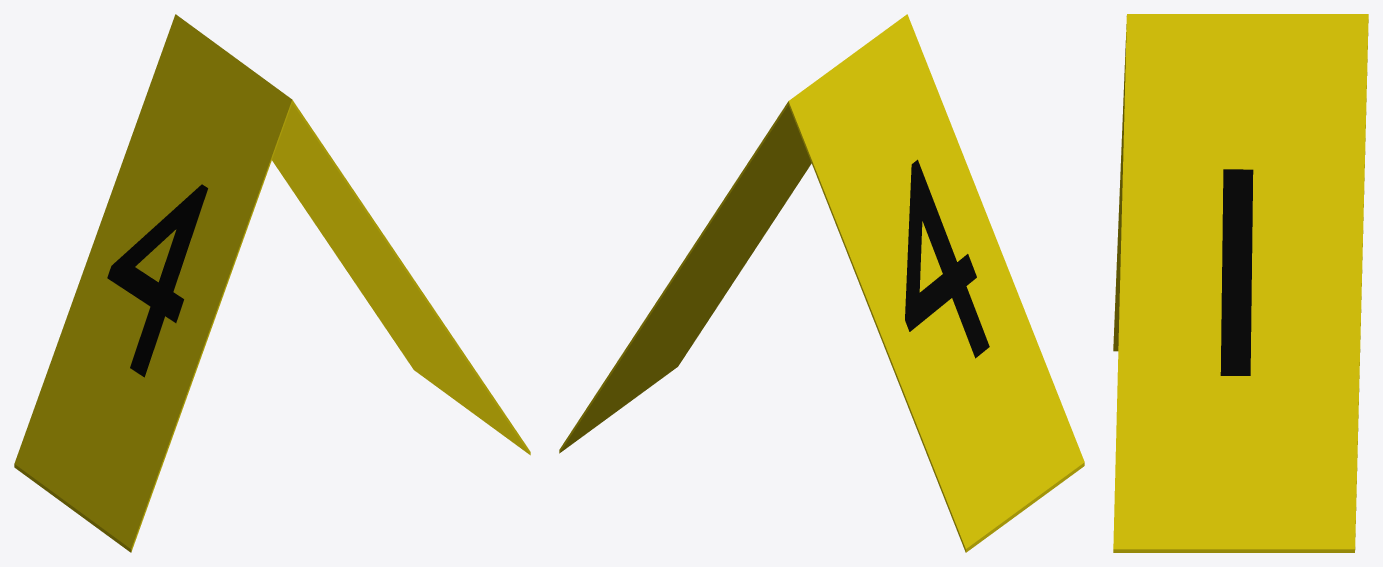
The model's file is stobok_evidence1.fbx.
3 renders of one model, left to right at view 1: azimuth 30°, elevation 25°; view 2: azimuth 150°, elevation 25°; view 3: azimuth 270°, elevation 25°, orthographic. The views are drawn at different scales.
Parts seen in each view (by area): view 1: Cube, Text.002; view 2: Cube, Text.002; view 3: Cube, Text.001.
Boxes of the visible parts, left/top/right/bottom form: Cube: left=14, top=14, right=530, bottom=552; Text.002: left=107, top=184, right=207, bottom=377; Cube: left=559, top=14, right=1084, bottom=552; Text.002: left=905, top=159, right=989, bottom=358; Cube: left=1113, top=14, right=1368, bottom=552; Text.001: left=1220, top=169, right=1253, bottom=375.
Bounding box in the file's own units: 395 × 385 × 211.
